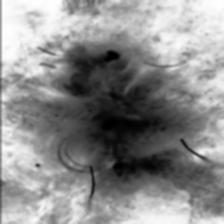Potentially Malignant Skin Tumors: (60, 44, 224, 199)
